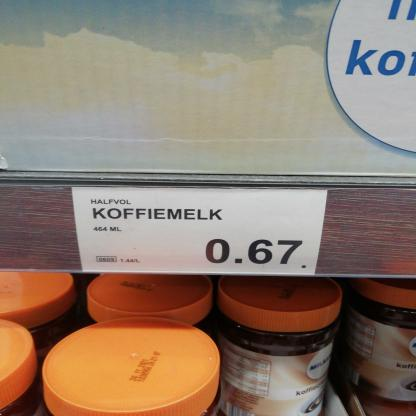prtg: (71, 187, 331, 276)
